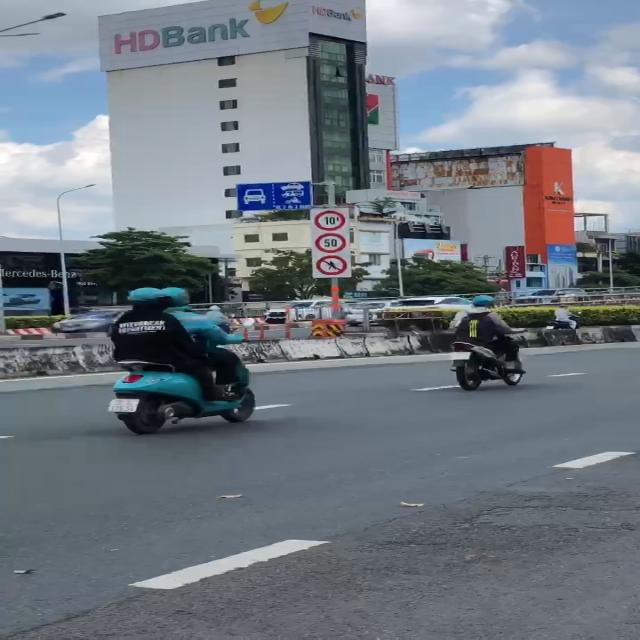Bien bao cam nguoi di bo: (312, 253, 350, 278)
Bien bao toc do toi da cho phep: (312, 232, 348, 254)
